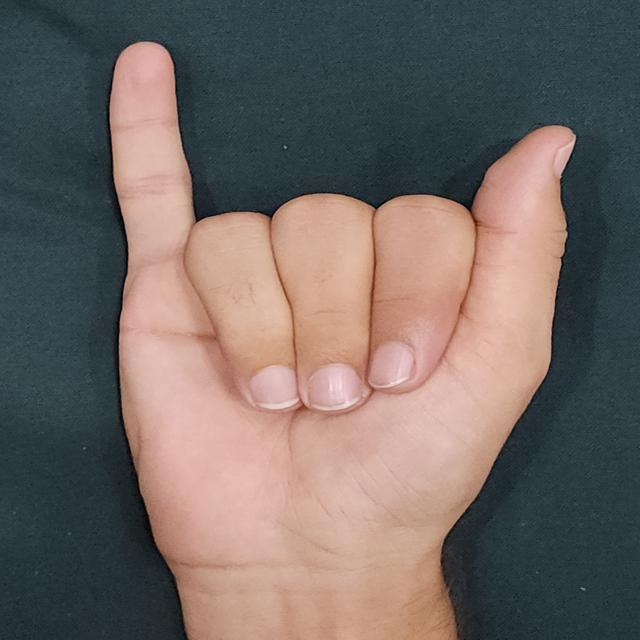ژ: (98, 35, 589, 603)
